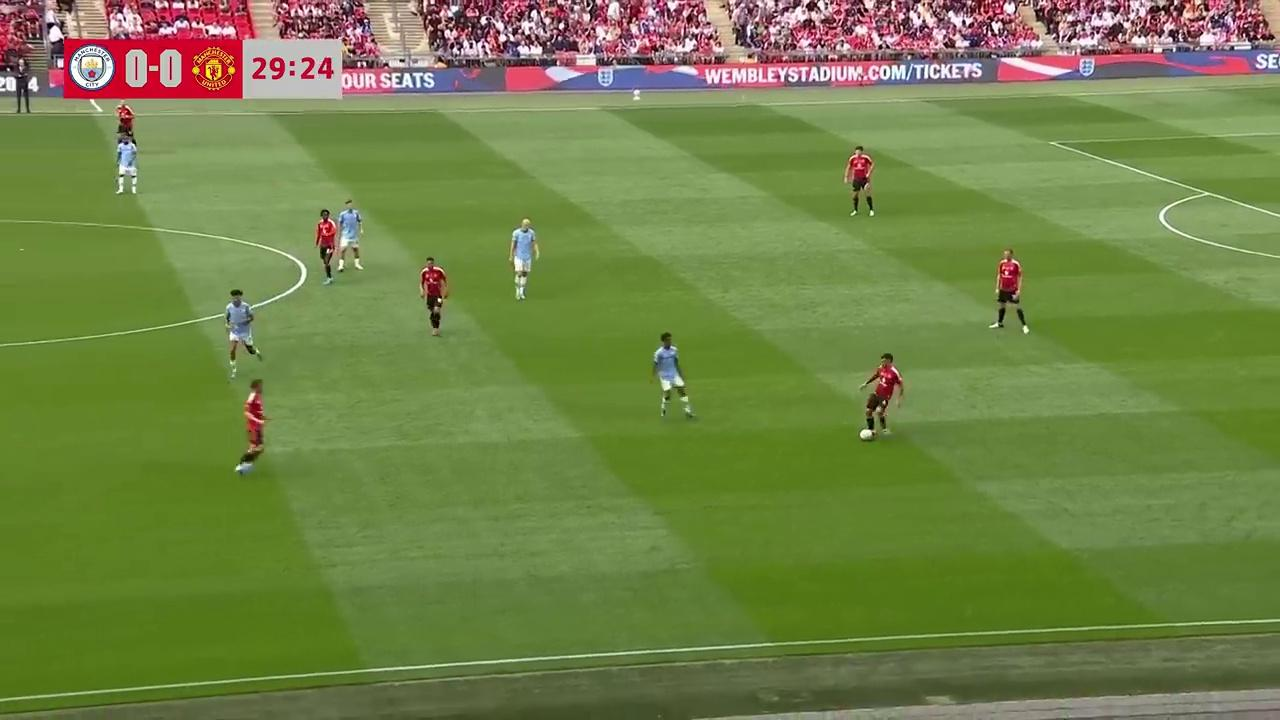ball: (858, 425, 871, 442)
player: (858, 353, 904, 442), (652, 332, 698, 419), (234, 378, 270, 475), (224, 288, 263, 376), (990, 247, 1029, 334), (508, 216, 539, 300), (419, 256, 448, 336), (843, 145, 875, 217), (336, 197, 364, 271), (314, 208, 339, 285), (115, 132, 138, 195), (115, 102, 136, 142)
